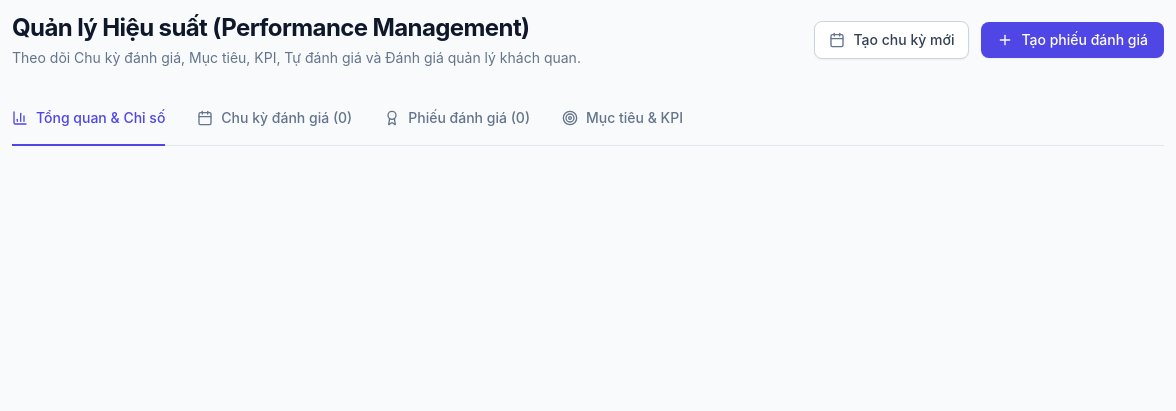
PerformancePage & Employee Review UI › navigates to Phiếu đánh giá tab and displays reviews list
Click the button "Phiếu đánh giá (0)": (457, 119) 384,92 -> 530,146
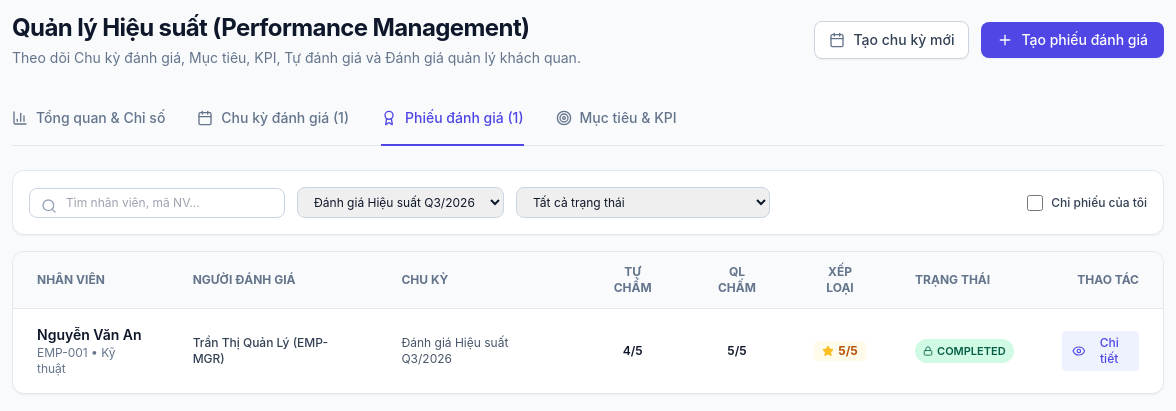
Result: the text "Nguyễn Văn An" is shown at 37,325 -> 145,345
Result: the text "EMP-001 • Kỹ thuật" is shown at 37,345 -> 116,376
Result: the text "Trần Thị Quản Lý (EMP-MGR)" is shown at 169,308 -> 378,393
